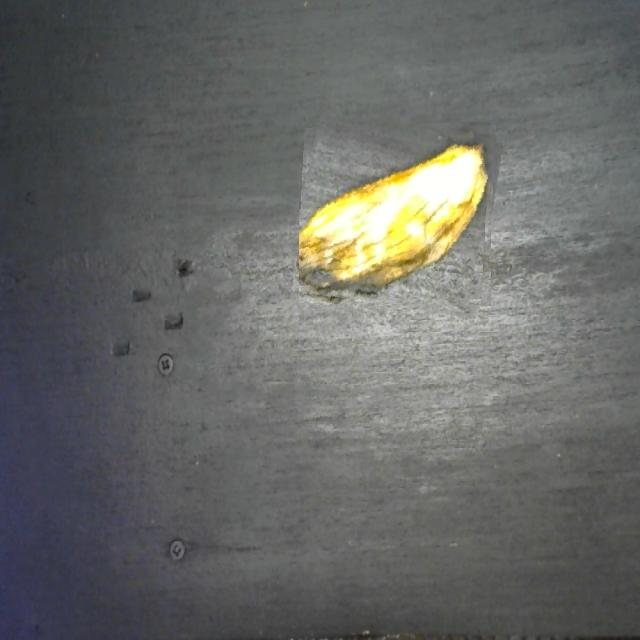biodegradable: (299, 122, 497, 312)
